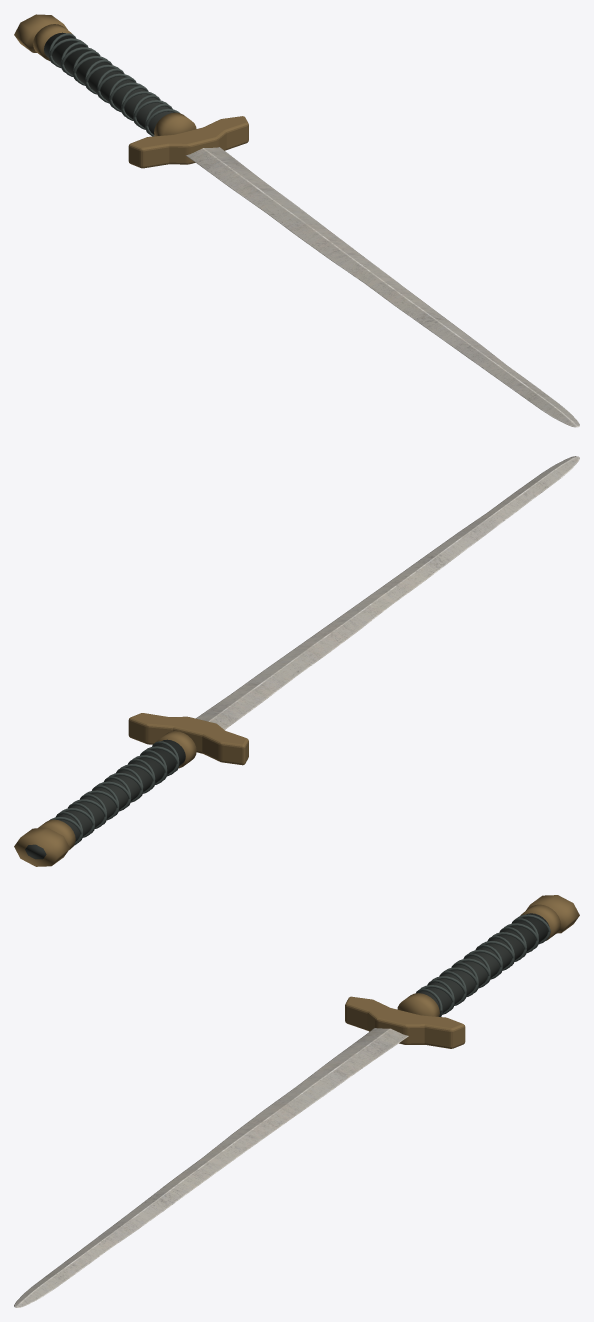
Rendered from jian-refined.glb.
The picture shows the model from 3 angles, top to bottom: view 1: azimuth 30°, elevation 25°; view 2: azimuth 150°, elevation 25°; view 3: azimuth 330°, elevation 25°; orthographic projection.
Visible parts, largest first — view 1: Jian_CC0_Weathered_Blade, Jian_Short_Swept_Guard, Jian_Dark_Grip, Jian_Cross_Wrapped_Cloth.001, Jian_Cross_Wrapped_Cloth, Jian_Octagonal_Pommel, Jian_Grip_Ferrule, Jian_Grip_Ferrule.001; view 2: Jian_CC0_Weathered_Blade, Jian_Short_Swept_Guard, Jian_Dark_Grip, Jian_Cross_Wrapped_Cloth, Jian_Octagonal_Pommel, Jian_Cross_Wrapped_Cloth.001, Jian_Grip_Ferrule; view 3: Jian_CC0_Weathered_Blade, Jian_Short_Swept_Guard, Jian_Dark_Grip, Jian_Cross_Wrapped_Cloth, Jian_Cross_Wrapped_Cloth.001, Jian_Octagonal_Pommel, Jian_Grip_Ferrule, Jian_Grip_Ferrule.001.
Boxes of the visible parts, x1=… form: Jian_CC0_Weathered_Blade: x1=185, y1=147, x2=579, y2=427; Jian_Short_Swept_Guard: x1=128, y1=116, x2=248, y2=168; Jian_Dark_Grip: x1=44, y1=32, x2=173, y2=134; Jian_Cross_Wrapped_Cloth.001: x1=49, y1=33, x2=172, y2=136; Jian_Cross_Wrapped_Cloth: x1=49, y1=38, x2=179, y2=134; Jian_Octagonal_Pommel: x1=14, y1=14, x2=67, y2=52; Jian_Grip_Ferrule: x1=154, y1=112, x2=196, y2=136; Jian_Grip_Ferrule.001: x1=33, y1=24, x2=71, y2=60; Jian_CC0_Weathered_Blade: x1=196, y1=456, x2=579, y2=729; Jian_Short_Swept_Guard: x1=128, y1=713, x2=248, y2=765; Jian_Dark_Grip: x1=57, y1=739, x2=185, y2=841; Jian_Cross_Wrapped_Cloth: x1=56, y1=741, x2=179, y2=845; Jian_Octagonal_Pommel: x1=14, y1=828, x2=69, y2=866; Jian_Cross_Wrapped_Cloth.001: x1=49, y1=746, x2=179, y2=841; Jian_Grip_Ferrule: x1=156, y1=731, x2=196, y2=768; Jian_CC0_Weathered_Blade: x1=14, y1=1028, x2=408, y2=1307; Jian_Short_Swept_Guard: x1=345, y1=996, x2=465, y2=1048; Jian_Dark_Grip: x1=419, y1=913, x2=549, y2=1012; Jian_Cross_Wrapped_Cloth: x1=416, y1=918, x2=550, y2=1014; Jian_Cross_Wrapped_Cloth.001: x1=420, y1=914, x2=550, y2=1016; Jian_Octagonal_Pommel: x1=526, y1=895, x2=579, y2=933; Jian_Grip_Ferrule: x1=397, y1=993, x2=439, y2=1016; Jian_Grip_Ferrule.001: x1=520, y1=904, x2=560, y2=940.
Size of the model in its own units: 0.1424 by 0.0357 by 1.15.
Materials: 4 (1 with a texture image).
